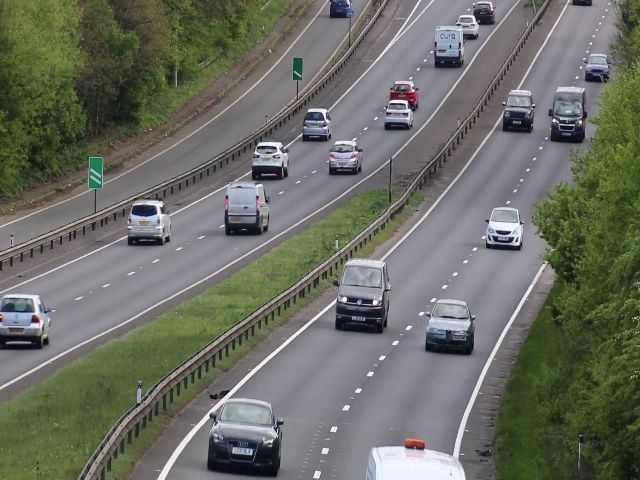car: (207, 394, 282, 480), (336, 257, 388, 333), (1, 292, 49, 351), (222, 181, 271, 234), (425, 298, 472, 353), (549, 86, 585, 143), (131, 198, 171, 246), (484, 207, 524, 250), (250, 140, 291, 179), (500, 88, 534, 130), (432, 26, 464, 67), (330, 139, 363, 175), (582, 48, 611, 86), (301, 109, 332, 139), (385, 99, 413, 132), (391, 76, 417, 109), (454, 11, 479, 38), (471, 1, 496, 25), (330, 1, 351, 18)
